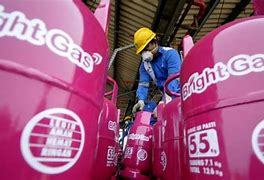bright_gas: (1, 1, 107, 180), (181, 15, 263, 180), (89, 75, 119, 178), (163, 73, 192, 179), (121, 113, 153, 180), (154, 105, 168, 177)
